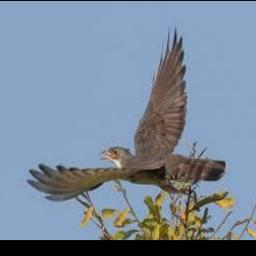Cuckoo: (28, 24, 226, 199)
